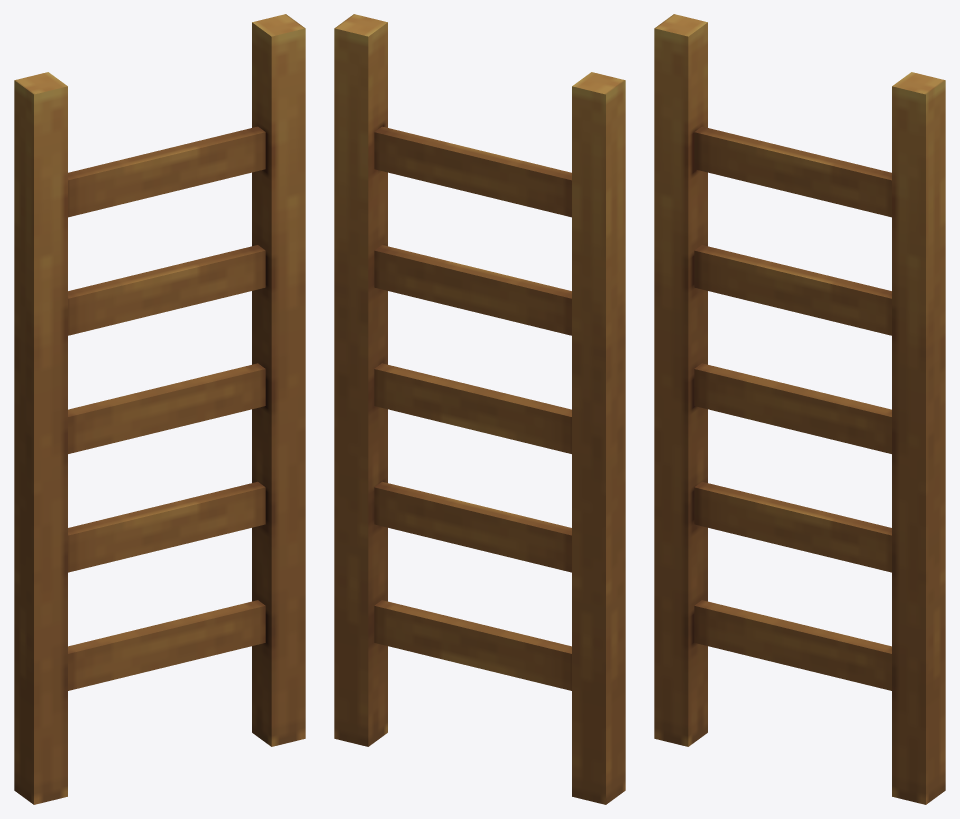
File: Ladder.fbx
3 views of the same model, side by side, from view 1: azimuth 30°, elevation 25°; view 2: azimuth 150°, elevation 25°; view 3: azimuth 330°, elevation 25° (orthographic).
Parts seen in each view (by area): view 1: ladder; view 2: ladder; view 3: ladder.
Part boxes in pixels (<box>): ladder: <box>14,14,305,804</box>; ladder: <box>334,14,625,804</box>; ladder: <box>654,14,945,804</box>.
Bounding box in the file's own units: 0.8 × 2 × 0.1.
